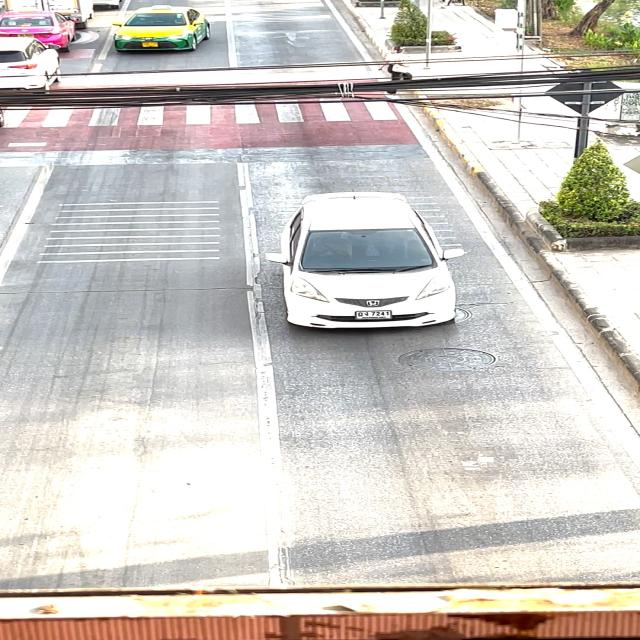car: (267, 179, 476, 342), (106, 1, 220, 66)
